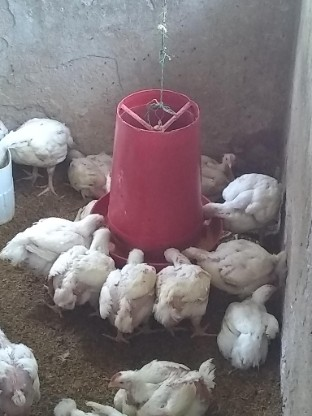Pollos: (4, 204, 107, 271), (186, 234, 293, 298), (197, 169, 285, 239), (48, 229, 118, 316), (217, 281, 281, 366), (0, 114, 79, 180), (105, 241, 156, 336), (107, 350, 188, 399), (136, 377, 227, 416), (157, 242, 198, 323), (0, 327, 36, 416), (65, 137, 114, 195), (52, 381, 125, 416), (199, 147, 241, 193)
